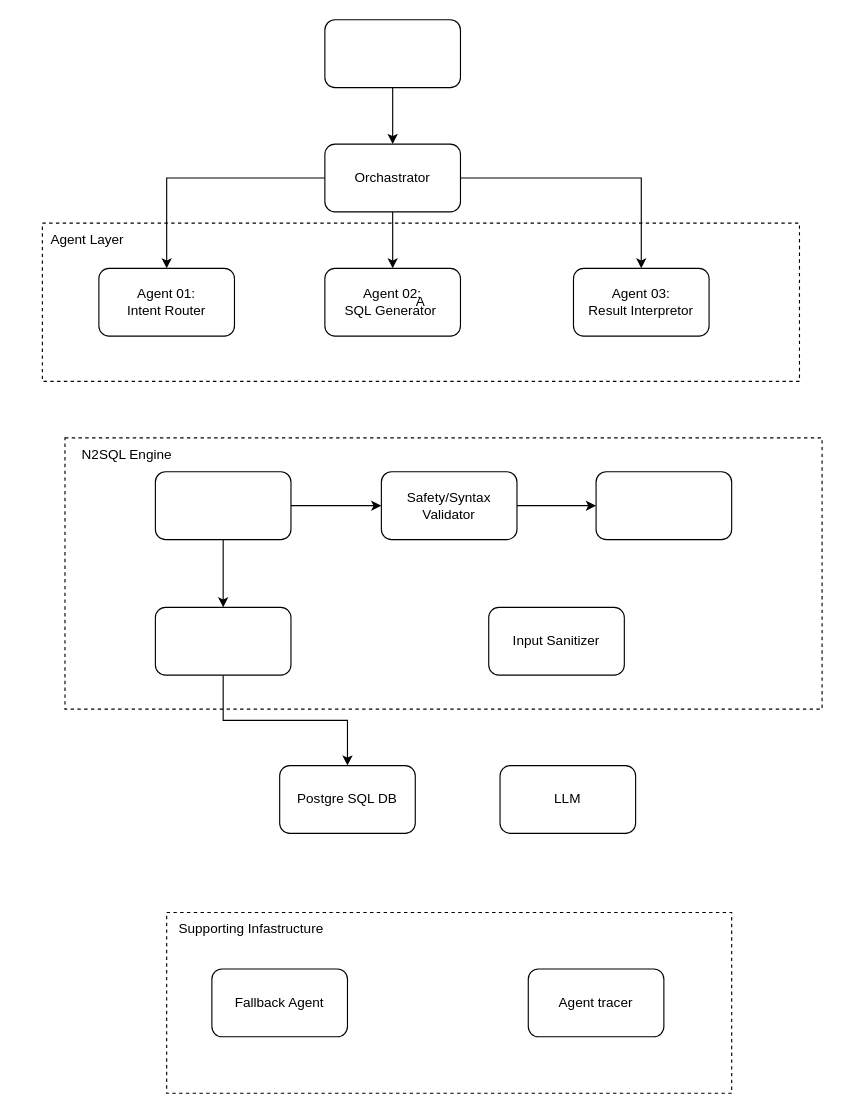
The diagram is 842 pixels wide and 1113 high, and some of its shapes have lost their labels. The centre of each missing label's shape, as x and y in pixels:
Natural Language Question: pixel 392 53
Prompt Builder: pixel 222 505
Query Executor: pixel 222 640
Retry Engine: pixel 663 505
